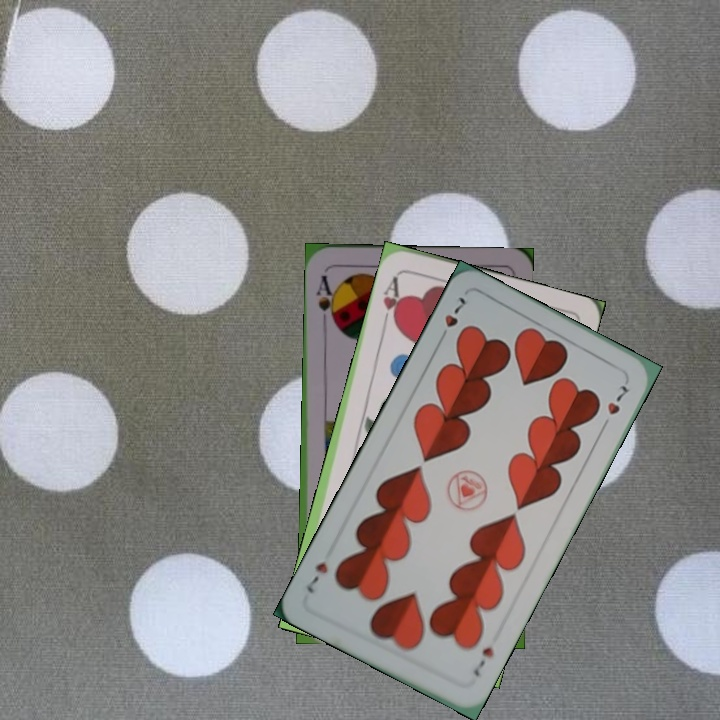H7: (435, 292, 468, 345), (468, 642, 497, 679)
HA: (379, 270, 405, 329)
SA: (312, 271, 338, 327)
